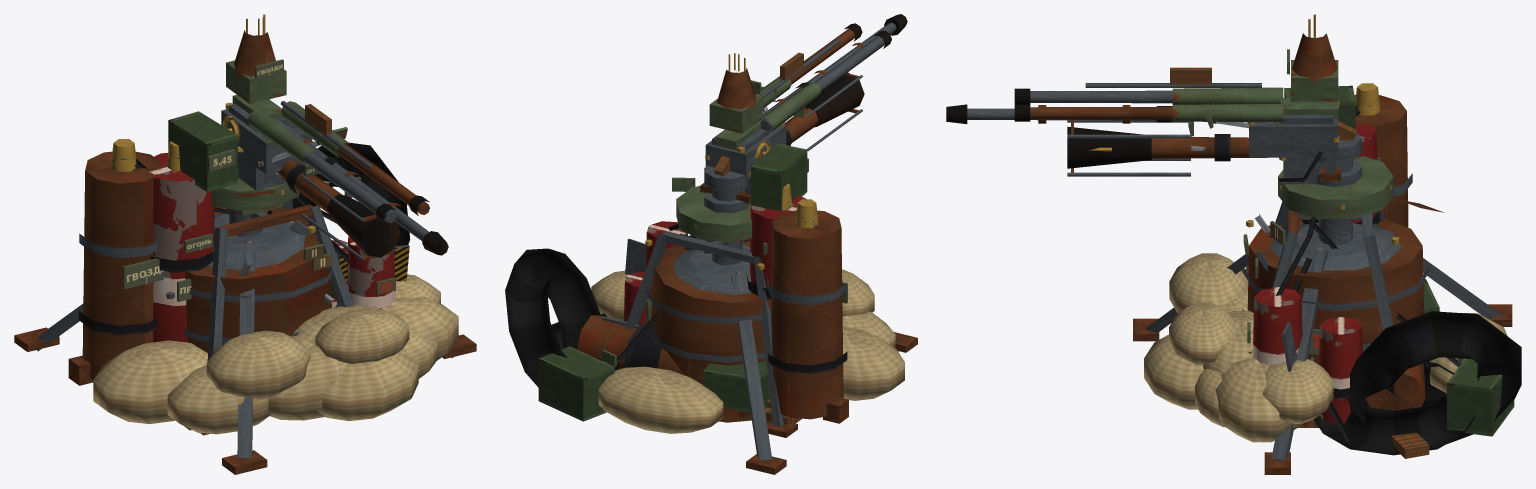
File: turrets.glb
3 views of the same model, side by side, from view 1: azimuth 30°, elevation 25°; view 2: azimuth 150°, elevation 25°; view 3: azimuth 270°, elevation 25° (orthographic). The views are drawn at different scales.
Parts seen in each view (by area): view 1: base (×3), body (×3), lv2 (×3), lv3; view 2: base (×3), body (×3), lv3 (×3), lv2 (×2); view 3: base (×3), body (×3), lv3 (×3), lv2 (×3).
Boxes of the visible parts, bbox=[...] form: base (×3): bbox=[14, 139, 476, 474]; body (×3): bbox=[168, 14, 448, 260]; lv2 (×3): bbox=[206, 176, 440, 399]; lv3: bbox=[296, 195, 395, 309]; base (×3): bbox=[505, 165, 917, 474]; body (×3): bbox=[700, 14, 907, 211]; lv3 (×3): bbox=[538, 221, 769, 421]; lv2 (×2): bbox=[591, 177, 874, 320]; base (×3): bbox=[1133, 83, 1521, 474]; body (×3): bbox=[946, 14, 1356, 217]; lv3 (×3): bbox=[1247, 184, 1514, 436]; lv2 (×3): bbox=[1169, 199, 1444, 423].
Size of the model in its own units: 1.58 by 1.54 by 2.19.
1 material, 1 textured.
